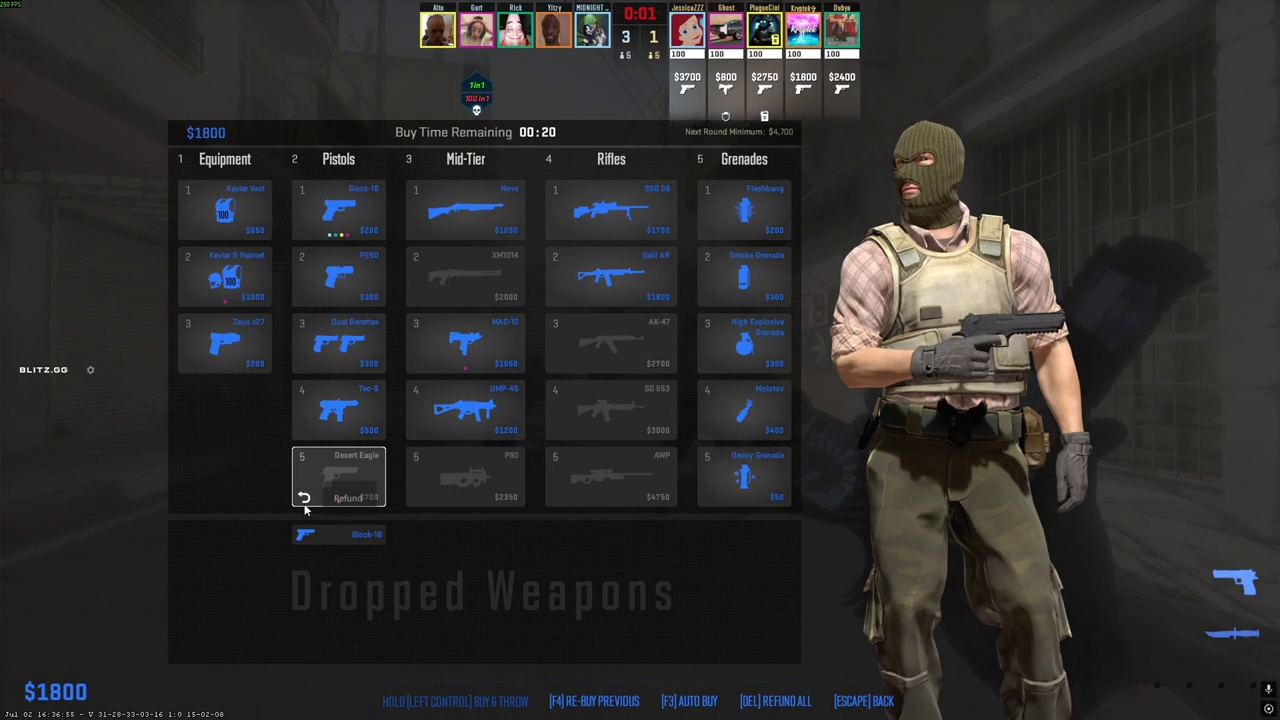Terrorist: (848, 121, 1073, 720)
